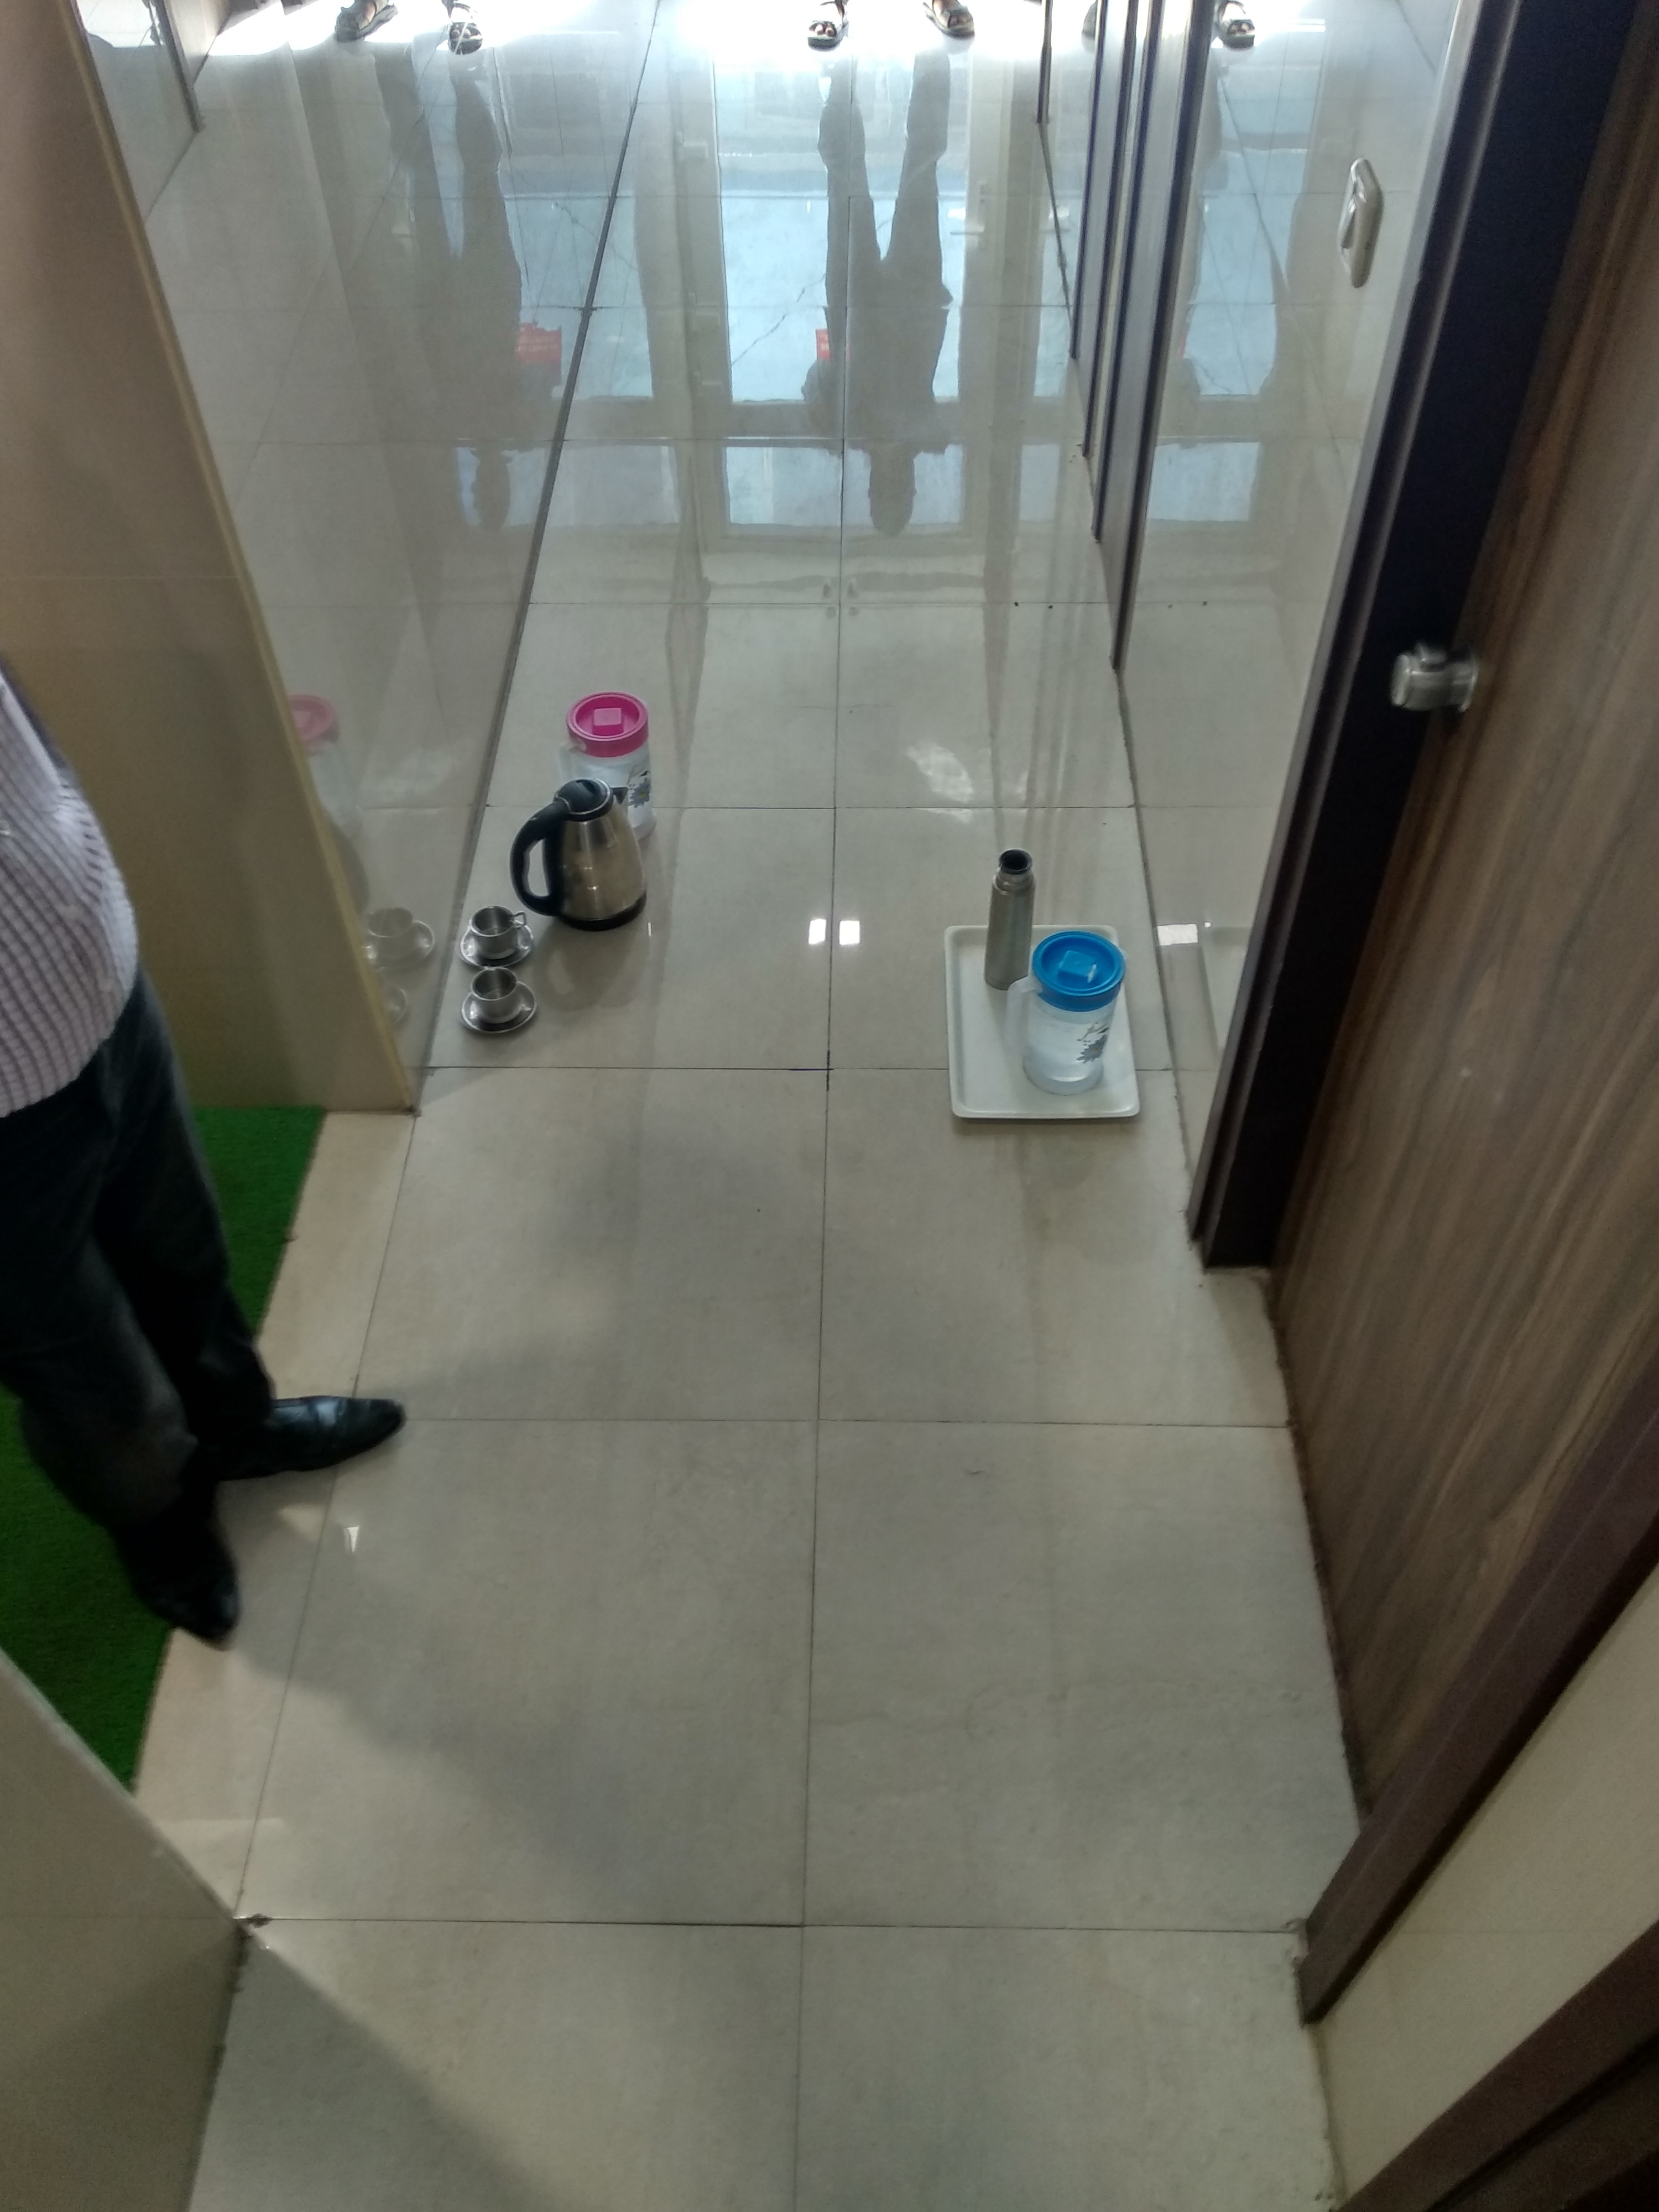CUP: (460, 967, 547, 1043), (451, 900, 521, 988)
FLASK: (978, 829, 1040, 993)
JUG: (511, 775, 678, 928), (1007, 932, 1124, 1089), (552, 691, 683, 777)
